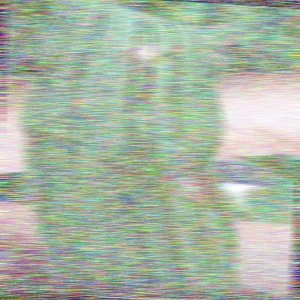Brown_Spot: (142, 138, 216, 211), (111, 28, 177, 79)
